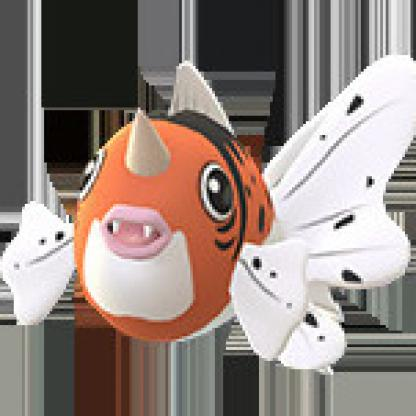Seaking: (18, 43, 414, 379)
